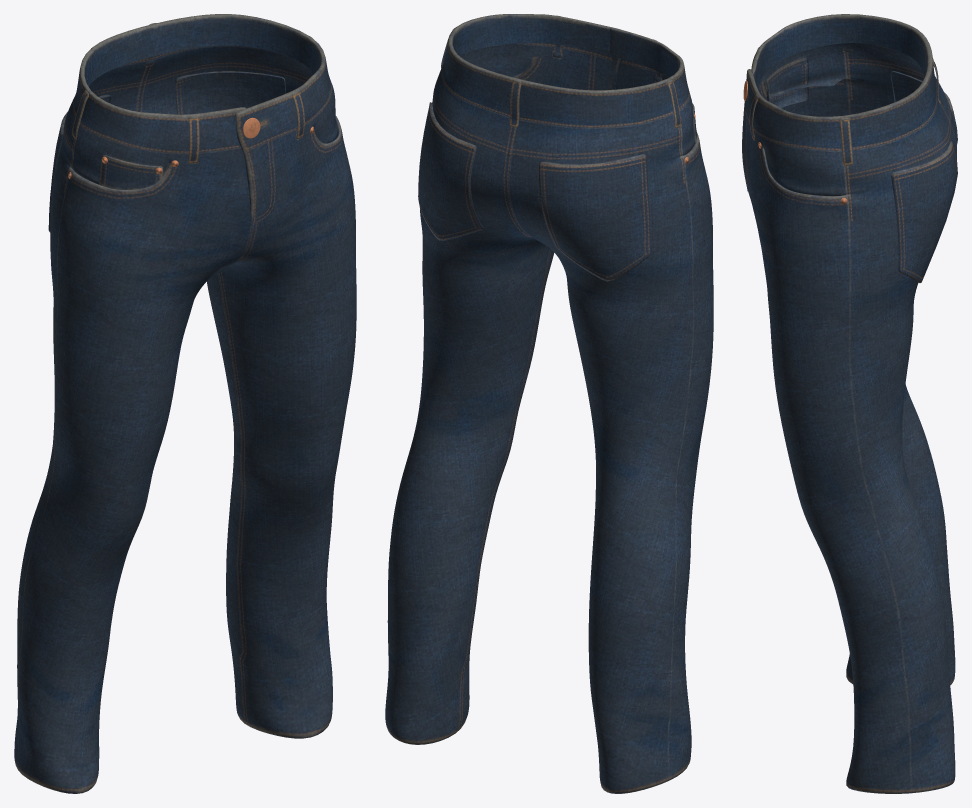
File: calca_jeans.glb
The picture shows the model from 3 angles, left to right: view 1: azimuth 30°, elevation 25°; view 2: azimuth 150°, elevation 25°; view 3: azimuth 270°, elevation 25°; orthographic projection. The views are drawn at different scales.
Visible parts, largest first — view 1: Cube.004, Plane.007, Cube.005, Plane.008; view 2: Cube.004, Plane.008; view 3: Cube.004, Plane.008, Plane.007, Cube.006.
Boxes of the visible parts, x1=… form: Cube.004: x1=14, y1=14, x2=356, y2=793; Plane.007: x1=99, y1=154, x2=162, y2=189; Cube.005: x1=188, y1=90, x2=304, y2=163; Plane.008: x1=48, y1=71, x2=285, y2=232; Cube.004: x1=385, y1=14, x2=713, y2=793; Plane.008: x1=418, y1=102, x2=650, y2=281; Cube.004: x1=742, y1=14, x2=956, y2=793; Plane.008: x1=890, y1=71, x2=957, y2=282; Plane.007: x1=766, y1=57, x2=808, y2=107; Cube.006: x1=839, y1=49, x2=853, y2=165.
Size of the model in its own units: 2.52 by 5.72 by 1.66.
Materials: 1 (1 with a texture image).
